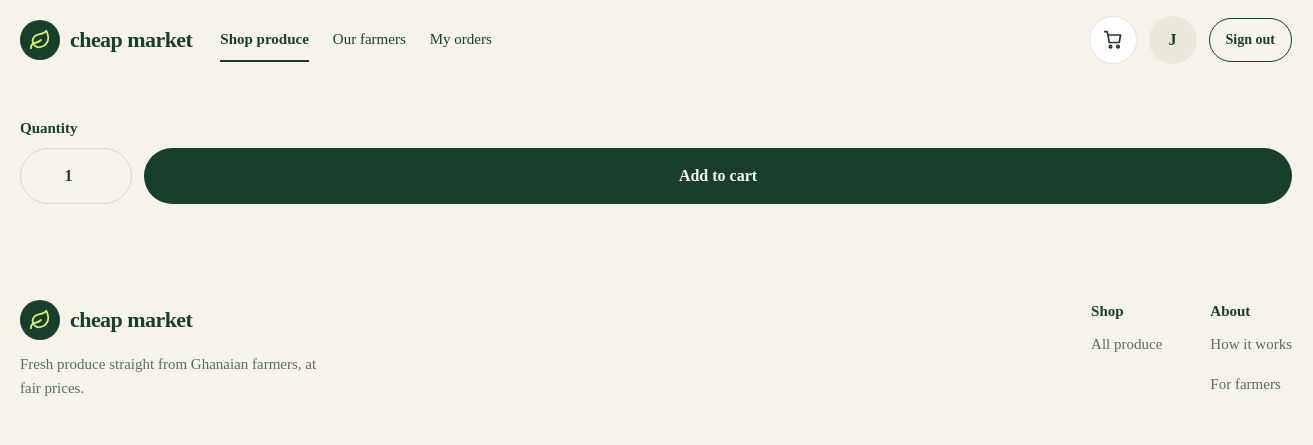
it: AddToCart › rejects the quantity 1.5
The image size is (1313, 445).
Replace the text in the number field labelled "Quantity" with "1.5": [76, 176] box [20,148,132,204]
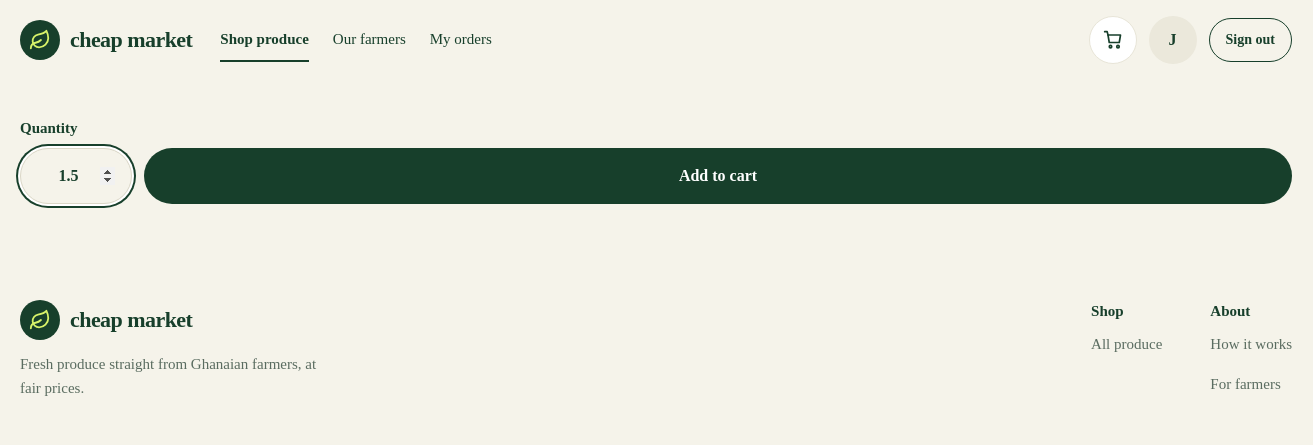
Click the button "Add to cart": [718, 176] box [144,148,1292,204]
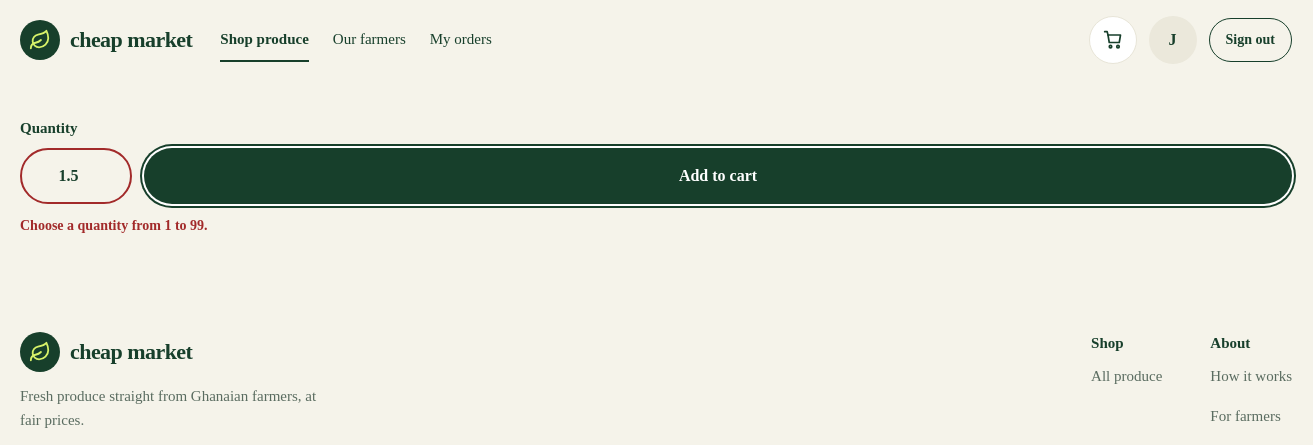
Result: the message reads "Choose a quantity from 1 to 99." at [20,218,208,233]
